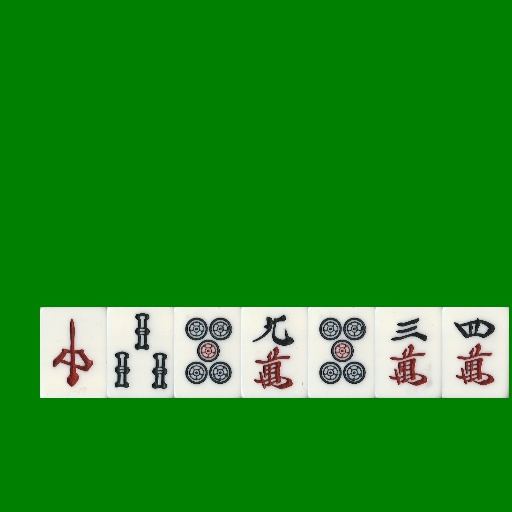3m: (375, 307, 442, 398)
3s: (107, 307, 174, 398)
4m: (442, 307, 509, 398)
5p: (174, 307, 241, 398), (308, 307, 375, 398)
9m: (241, 307, 308, 398)
tyun: (40, 307, 107, 398)
